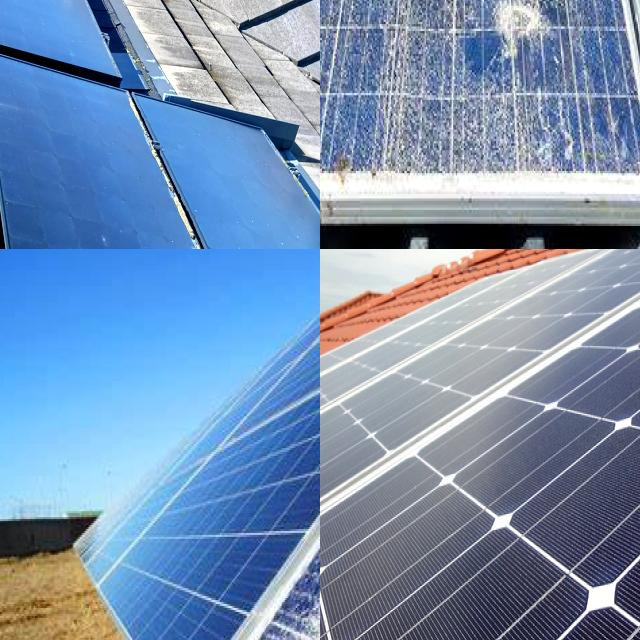dust: (15, 93, 142, 249), (0, 40, 79, 249), (467, 264, 640, 341), (320, 354, 397, 513)
hotspot: (228, 540, 320, 640), (475, 0, 568, 67)
